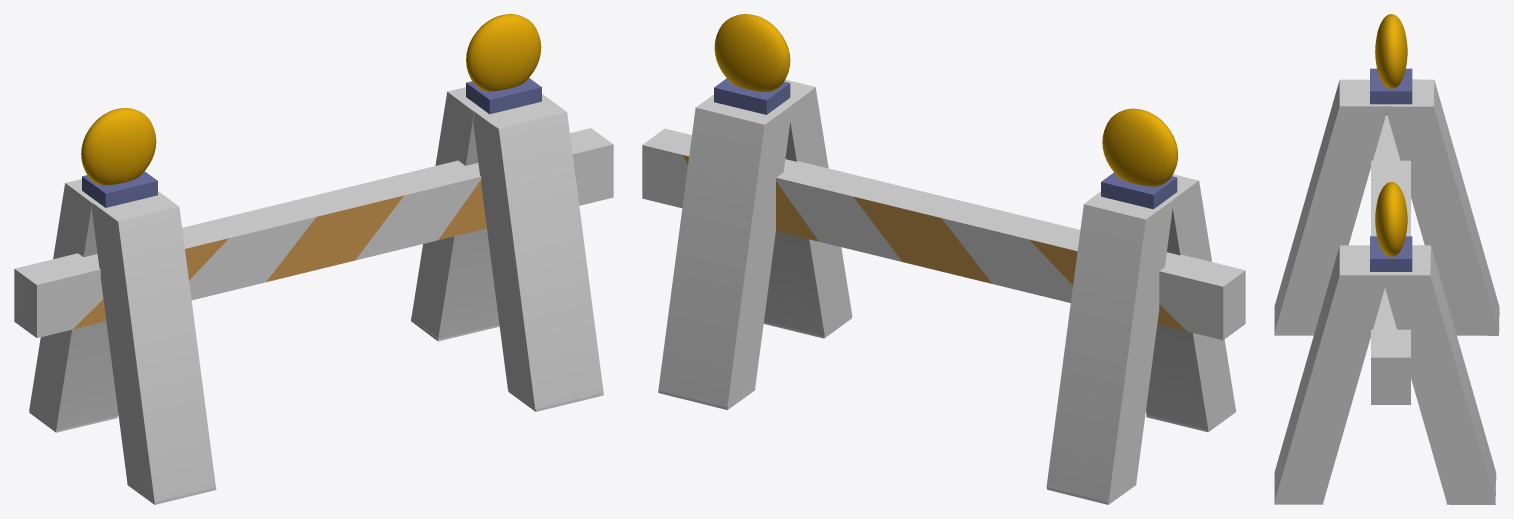
The model's file is Barricade.fbx.
3 renders of one model, left to right at view 1: azimuth 30°, elevation 25°; view 2: azimuth 150°, elevation 25°; view 3: azimuth 270°, elevation 25°, orthographic. The views are drawn at different scales.
Visible parts, largest first — view 1: pCube1, pCube3, pasted__pCube1, pSphere1, pasted__pSphere1, pCube2, pasted__pCube2; view 2: pasted__pCube1, pCube3, pCube1, pasted__pSphere1, pSphere1, pCube2, pasted__pCube2; view 3: pCube1, pasted__pCube1, pCube3, pSphere1, pasted__pSphere1, pasted__pCube2, pCube2.
Boxes of the visible parts, bbox=[...] form: pCube1: bbox=[91, 94, 603, 504]; pCube3: bbox=[14, 128, 613, 337]; pasted__pCube1: bbox=[29, 87, 499, 432]; pSphere1: bbox=[466, 14, 541, 91]; pasted__pSphere1: bbox=[81, 108, 156, 185]; pCube2: bbox=[466, 78, 541, 114]; pasted__pCube2: bbox=[82, 171, 157, 207]; pasted__pCube1: bbox=[658, 94, 1173, 504]; pCube3: bbox=[642, 128, 1245, 340]; pCube1: bbox=[763, 79, 1235, 432]; pasted__pSphere1: bbox=[1102, 108, 1177, 186]; pSphere1: bbox=[714, 14, 790, 91]; pCube2: bbox=[714, 78, 790, 114]; pasted__pCube2: bbox=[1101, 172, 1177, 209]; pCube1: bbox=[1274, 79, 1388, 504]; pasted__pCube1: bbox=[1382, 79, 1499, 504]; pCube3: bbox=[1371, 115, 1410, 404]; pSphere1: bbox=[1375, 182, 1407, 256]; pasted__pSphere1: bbox=[1375, 14, 1407, 88]; pasted__pCube2: bbox=[1370, 68, 1412, 114]; pCube2: bbox=[1370, 236, 1412, 271].
Size of the model in its own units: 5.15 by 2.9 by 1.95.
